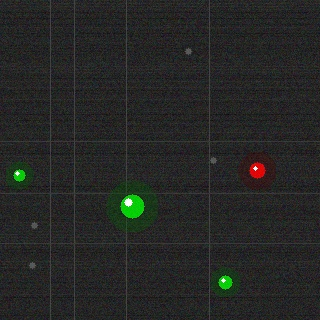green_normal: (118, 192, 146, 220), (216, 273, 234, 291), (11, 167, 27, 183)
red_fault: (247, 160, 267, 180)
